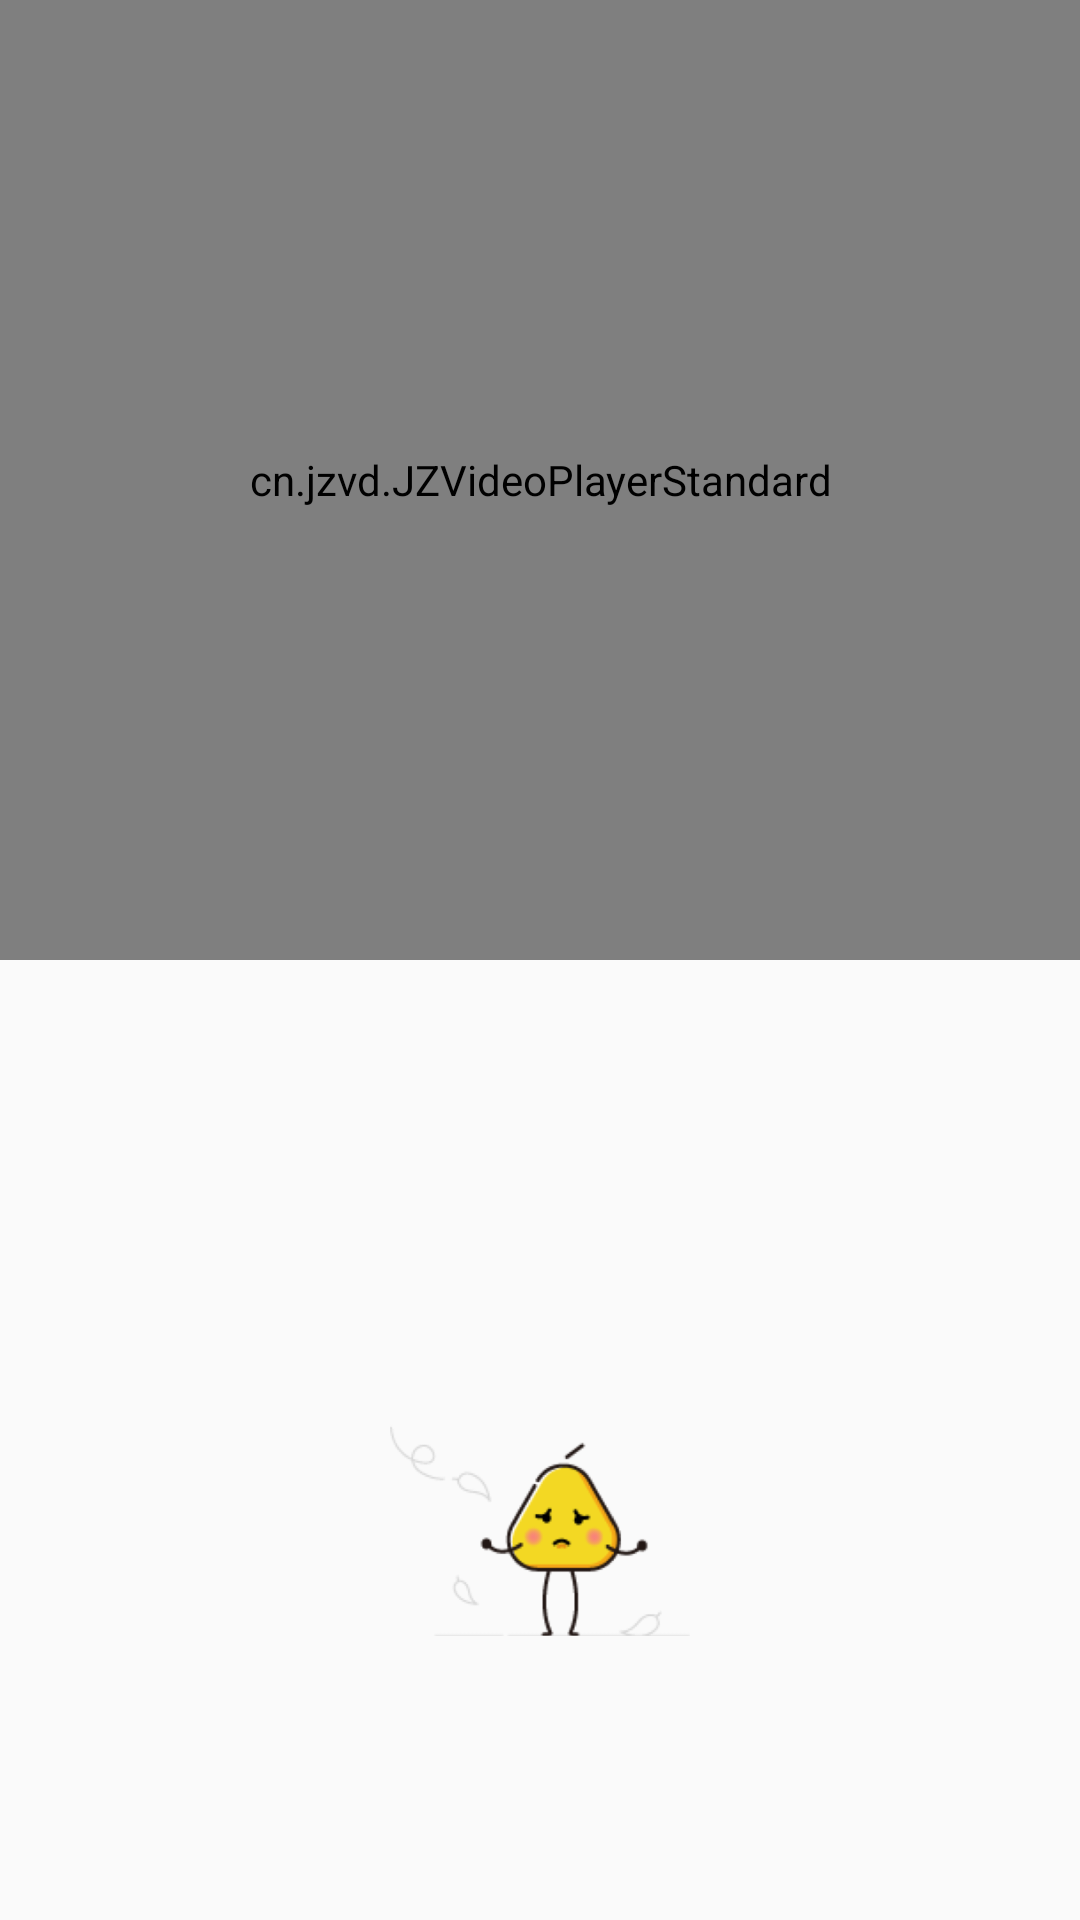

Where icons sit on this 1080 × 1920 app screen, as detection(x1, y1, x2, y2):
videonew mine nodata: detection(391, 1428, 659, 1636)
